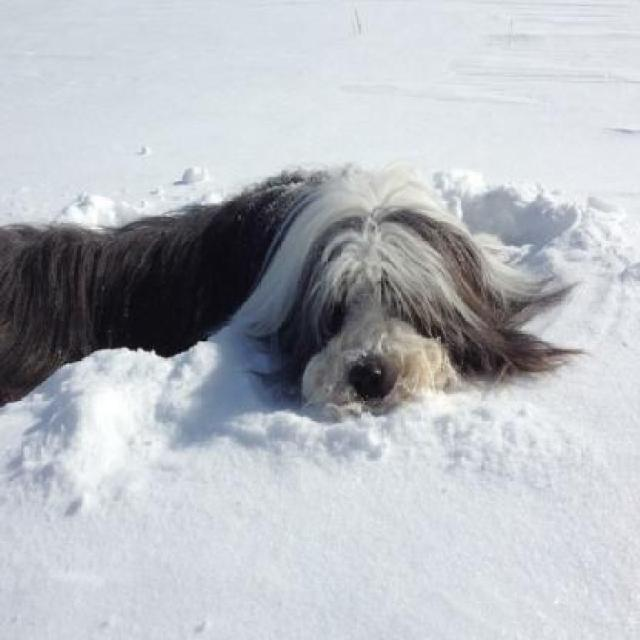animals: (1, 144, 594, 428)
